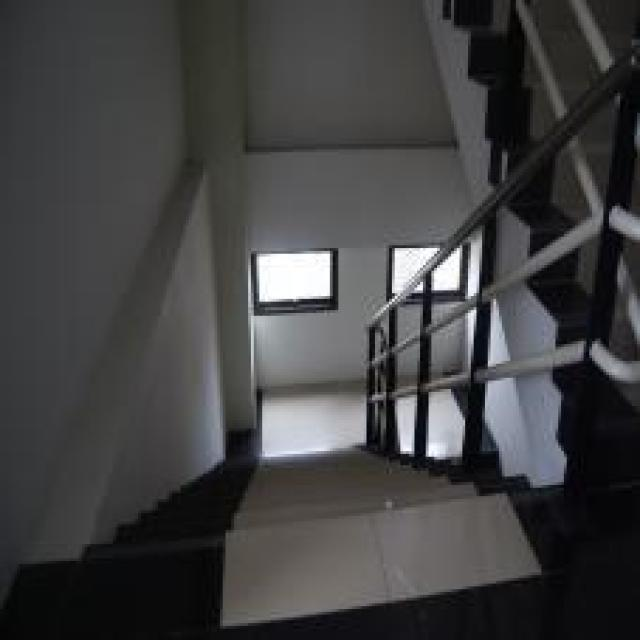downstair: (137, 452, 560, 638)
